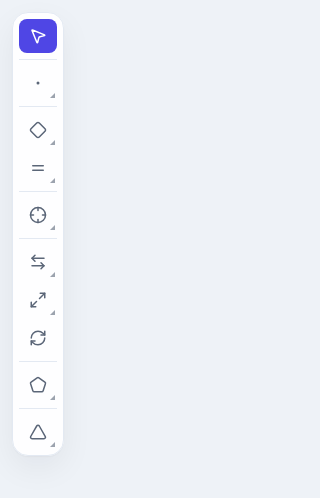
Scenario: ConstructionToolbar › groups the polygon tools under a single flyout button
Expected: the button "Polygon" is not shown
Expected: the button "Regular polygon" is not shown
Click the button named "Polygons": (38,385) [19, 368, 57, 402]
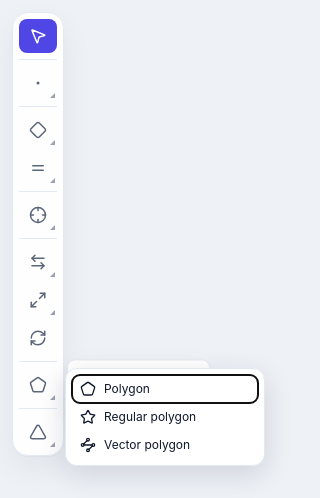
Click the menu item "Regular polygon": (165,417) [72, 403, 258, 431]
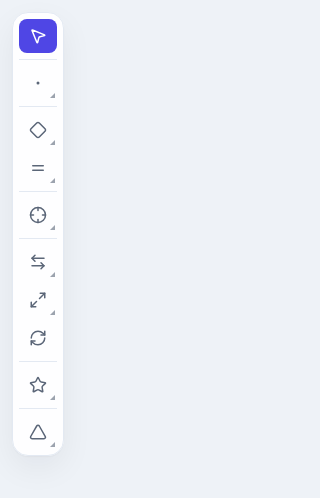
Expected: the menu is gone
